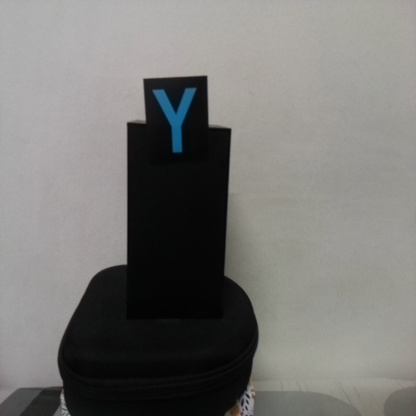id_14: (143, 78, 208, 165)
